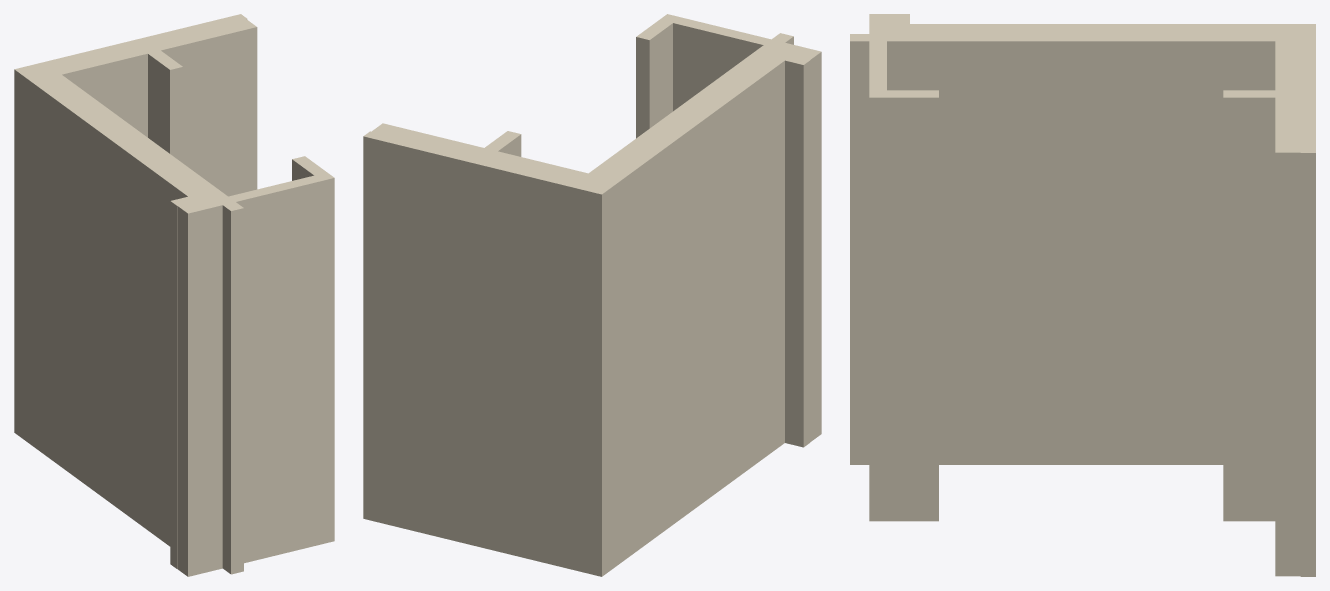
3 views of the same model, side by side, from view 1: azimuth 30°, elevation 25°; view 2: azimuth 150°, elevation 25°; view 3: azimuth 270°, elevation 25° (orthographic). The views are drawn at different scales.
Visible parts, largest first — view 1: B-GF-WALL-013; view 2: B-GF-WALL-013; view 3: B-GF-WALL-013.
Part boxes in pixels (<box>): B-GF-WALL-013: <box>14,14,334,576</box>; B-GF-WALL-013: <box>363,14,821,576</box>; B-GF-WALL-013: <box>850,14,1315,576</box>.
Size of the model in its own units: 1.7 by 2.42 by 2.41.
